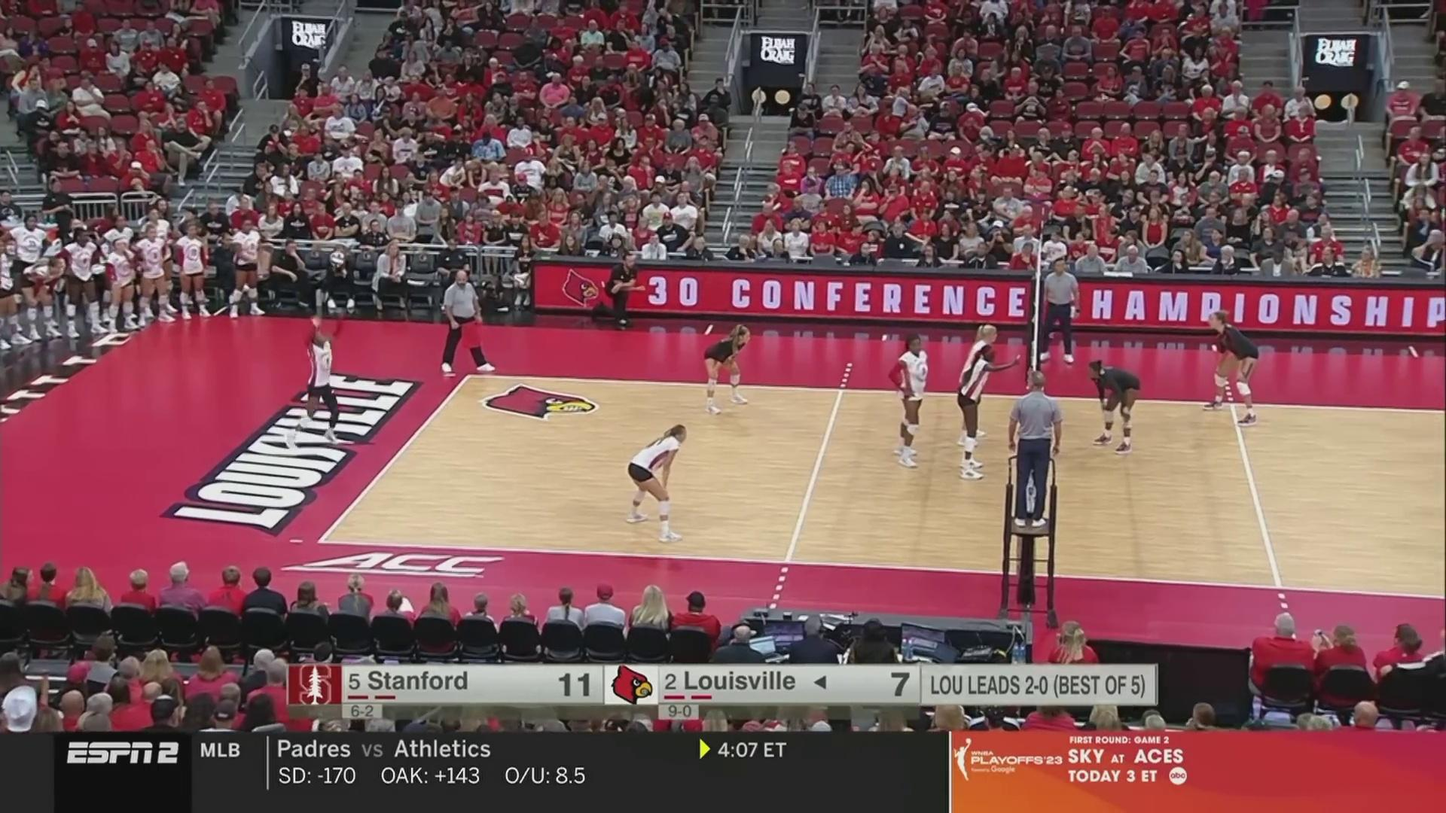player: (1199, 311, 1268, 425), (289, 313, 344, 452), (957, 342, 1008, 477), (625, 428, 688, 533), (952, 321, 1002, 447), (887, 342, 935, 467), (1088, 360, 1141, 452), (701, 328, 753, 411)
refree: (1007, 369, 1066, 529), (431, 268, 501, 377), (1037, 255, 1081, 367)
